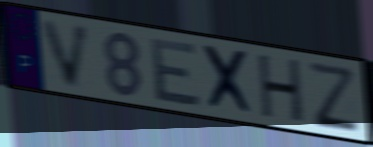8: (101, 28, 144, 98)
E: (149, 36, 204, 109)
H: (256, 52, 306, 126)
V: (39, 17, 95, 91)
X: (198, 42, 258, 119)
Z: (304, 58, 363, 132)
